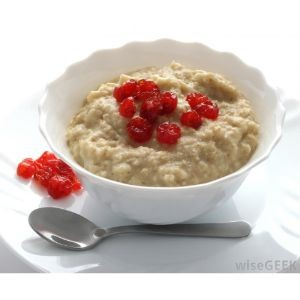oat_brain food: (82, 70, 238, 165)
